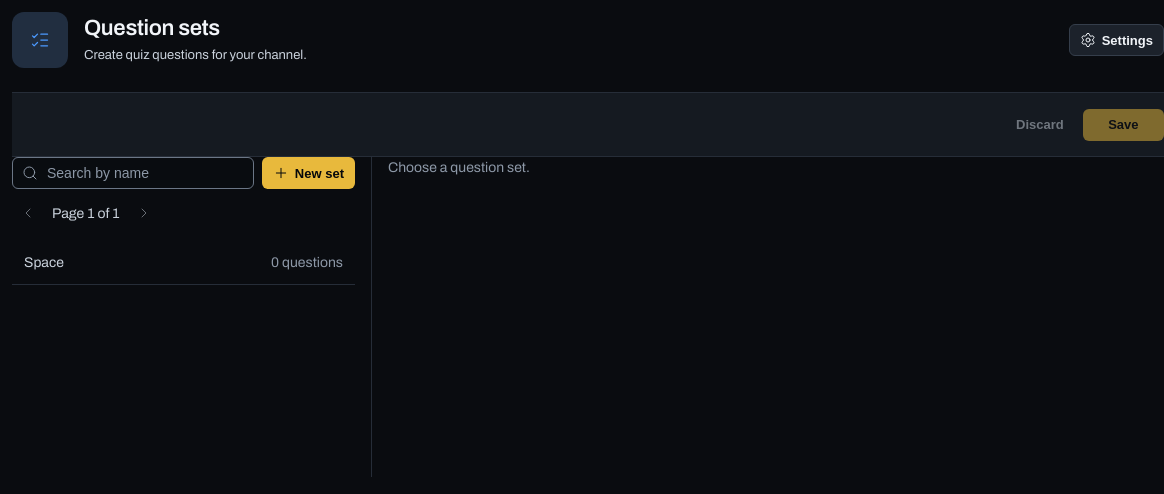
Test case: quiz set editor › replaces the draft when a conflict reload completes for the current set
Click the button "Space 0 questions".
click(44, 262)  # box top-left (12, 241), bottom-right (355, 285)
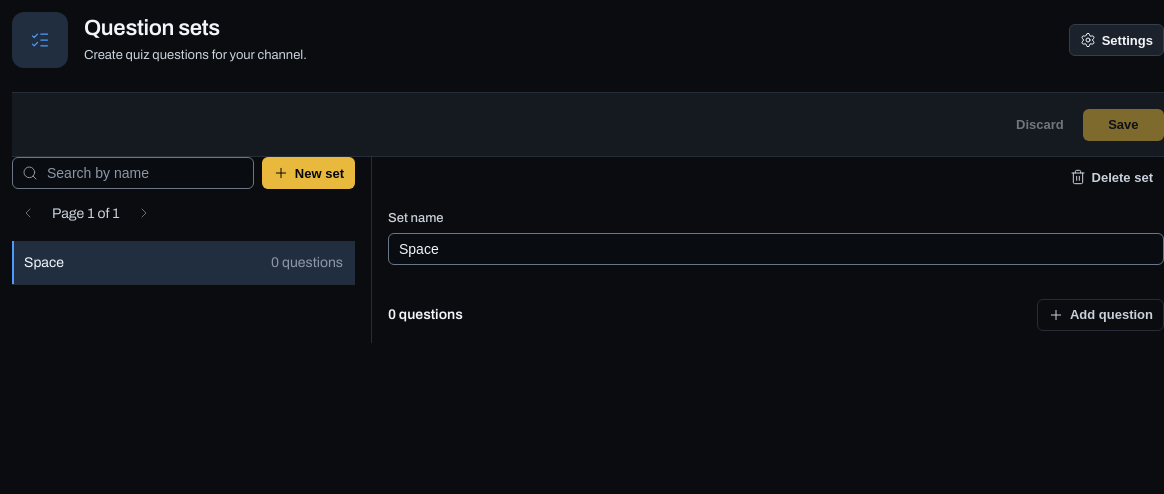
Result: the field labelled "Set name" is shown
Replace the text in the field labelled "Set name" with "Draft space" at point(776, 248), box top-left (388, 232), bottom-right (1163, 264)
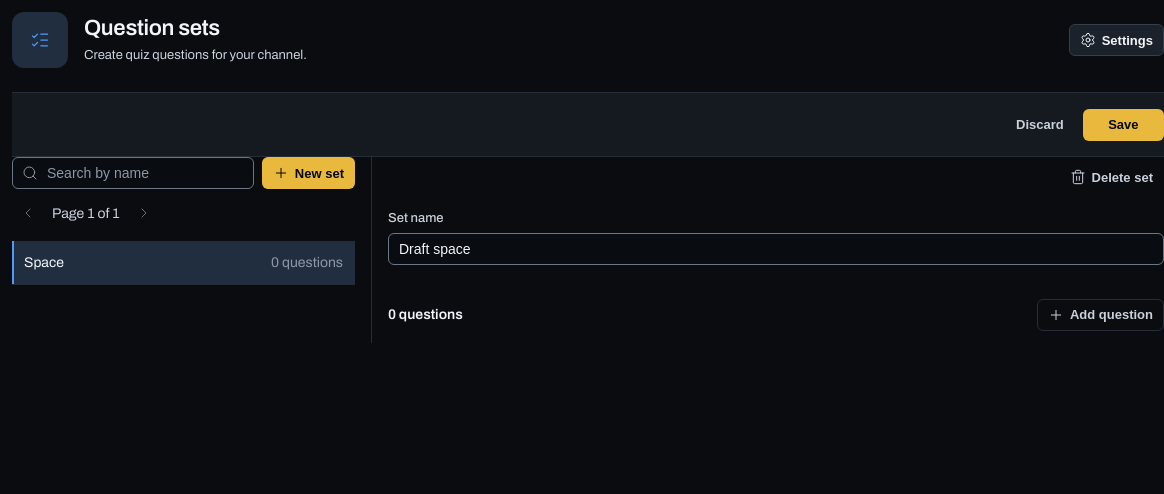
Click the button "Save".
click(1123, 124)  # box top-left (1083, 108), bottom-right (1163, 140)
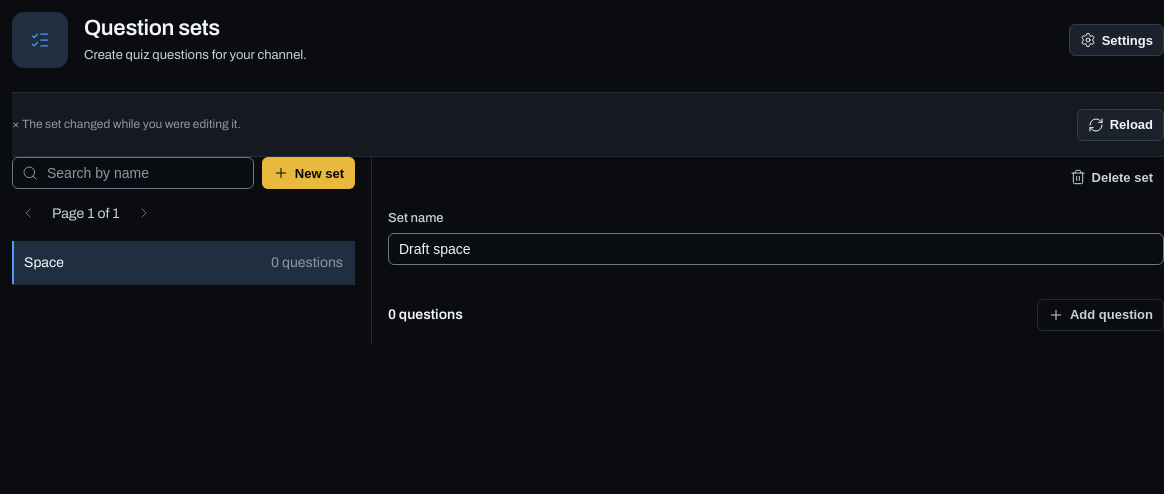
Click the button "Reload".
click(1120, 124)  # box top-left (1077, 108), bottom-right (1163, 140)
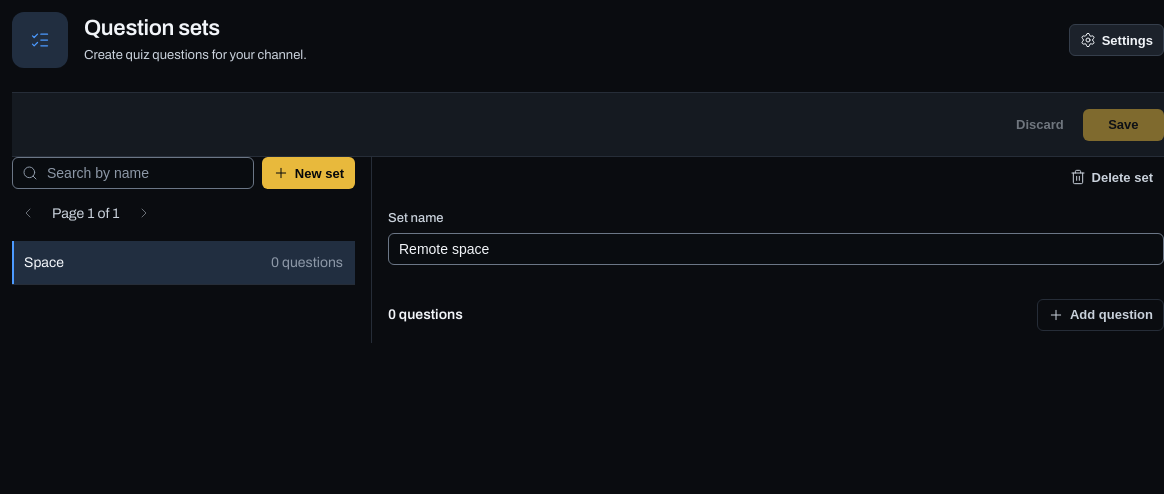
Result: the field labelled "Set name" holds "Remote space" at top-left (388, 232), bottom-right (1163, 264)
Result: the button "Reload" is gone
